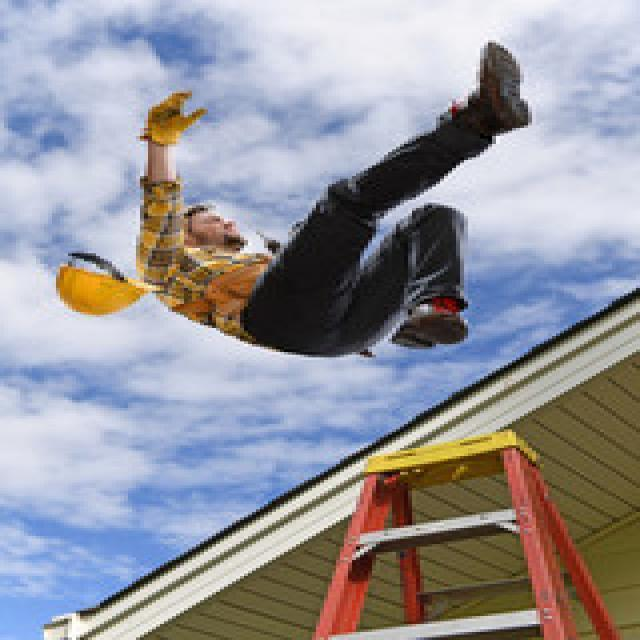fall: (130, 45, 555, 364)
